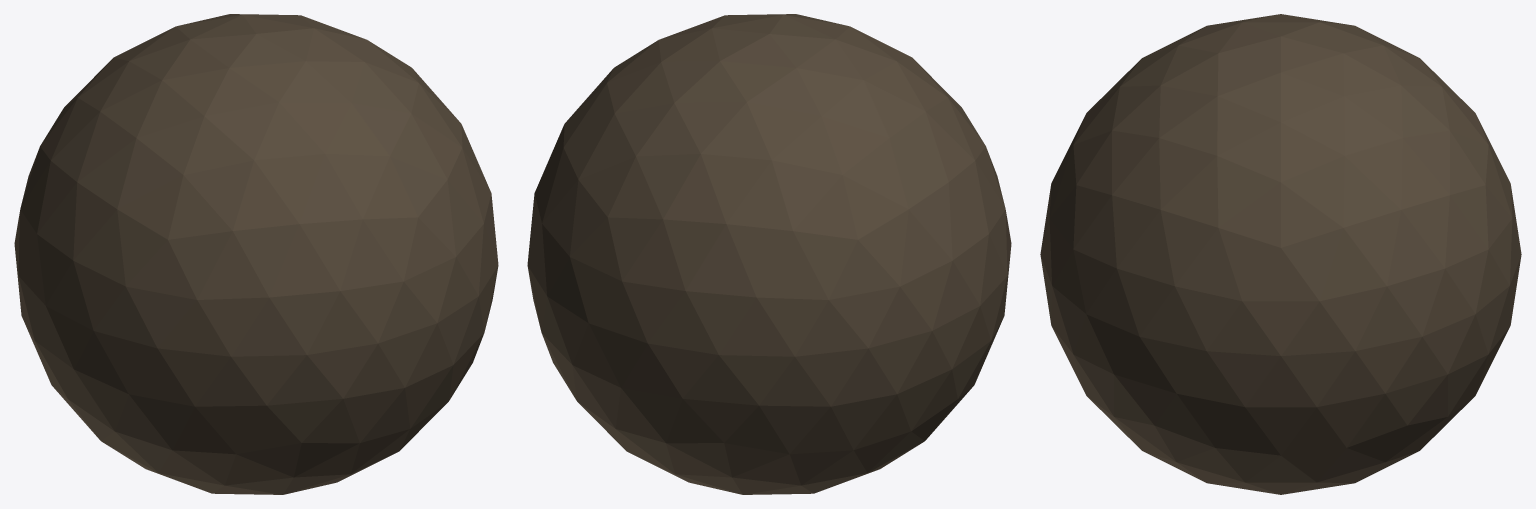
File: Planetoid.FBX
3 views of the same model, side by side, from view 1: azimuth 30°, elevation 25°; view 2: azimuth 150°, elevation 25°; view 3: azimuth 270°, elevation 25° (orthographic).
Parts seen in each view (by area): view 1: Planetoid_mass6, Planetoid_mass2, Planetoid_mass4, Planetoid_mass1, Planeetoid_mass9, Planetoid_mass10, Planetoid_mass8, Planetoid_mass5, Plaanetoid_mass7, Planetoid_mass3; view 2: Planetoid_mass4, Planetoid_mass14, Planetoid_mass10, Planetoid_mass13, Planetoid_mass5, Planeetoid_mass9, Planetoid_mass11, Planetoid_mass1, Planetoid_mass12, Planetoid_mass6; view 3: Plaanetoid_mass7, Planetoid_mass1, Planetoid_mass10, Planetoid_mass11, Planetoid_mass12, Planetoid_mass6, Planetoid_mass3, Planetoid_mass14, Planetoid_mass13.
Boxes of the visible parts, box(x1,y1,x2,y2) form: Planetoid_mass6: box(183, 102, 484, 442); Planetoid_mass2: box(94, 231, 404, 454); Planetoid_mass4: box(14, 57, 204, 305); Planetoid_mass1: box(230, 28, 462, 179); Planeetoid_mass9: box(15, 175, 232, 393); Planetoid_mass10: box(114, 14, 367, 116); Planetoid_mass8: box(129, 394, 409, 494); Planetoid_mass5: box(22, 317, 224, 493); Plaanetoid_mass7: box(447, 125, 498, 331); Planetoid_mass3: box(339, 402, 447, 481); Planetoid_mass4: box(726, 61, 988, 348); Planetoid_mass14: box(542, 180, 868, 406); Planetoid_mass10: box(563, 15, 896, 223); Planetoid_mass13: box(572, 323, 830, 494); Planetoid_mass5: box(732, 317, 1003, 494); Planeetoid_mass9: box(831, 98, 1007, 406); Planetoid_mass11: box(527, 84, 605, 295); Planetoid_mass1: box(565, 14, 849, 122); Planetoid_mass12: box(527, 266, 576, 400); Planetoid_mass6: box(851, 27, 960, 106); Plaanetoid_mass7: box(1073, 195, 1319, 447); Planetoid_mass1: box(1112, 22, 1344, 247); Planetoid_mass10: box(1180, 14, 1488, 209); Planetoid_mass11: box(1281, 156, 1475, 393); Planetoid_mass12: box(1215, 314, 1488, 455); Planetoid_mass6: box(1040, 27, 1204, 425); Planetoid_mass3: box(1087, 396, 1447, 494); Planetoid_mass14: box(1445, 115, 1521, 354); Planetoid_mass13: box(1421, 256, 1521, 449).
Size of the model in its own units: 121 by 121 by 121.
